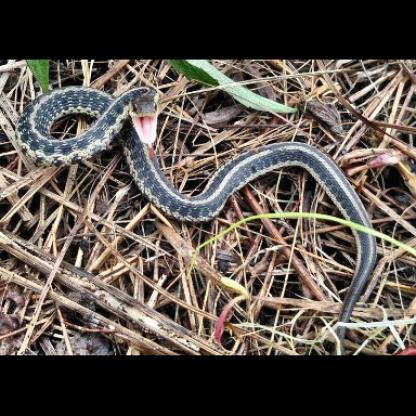Snake: (7, 79, 405, 278)
